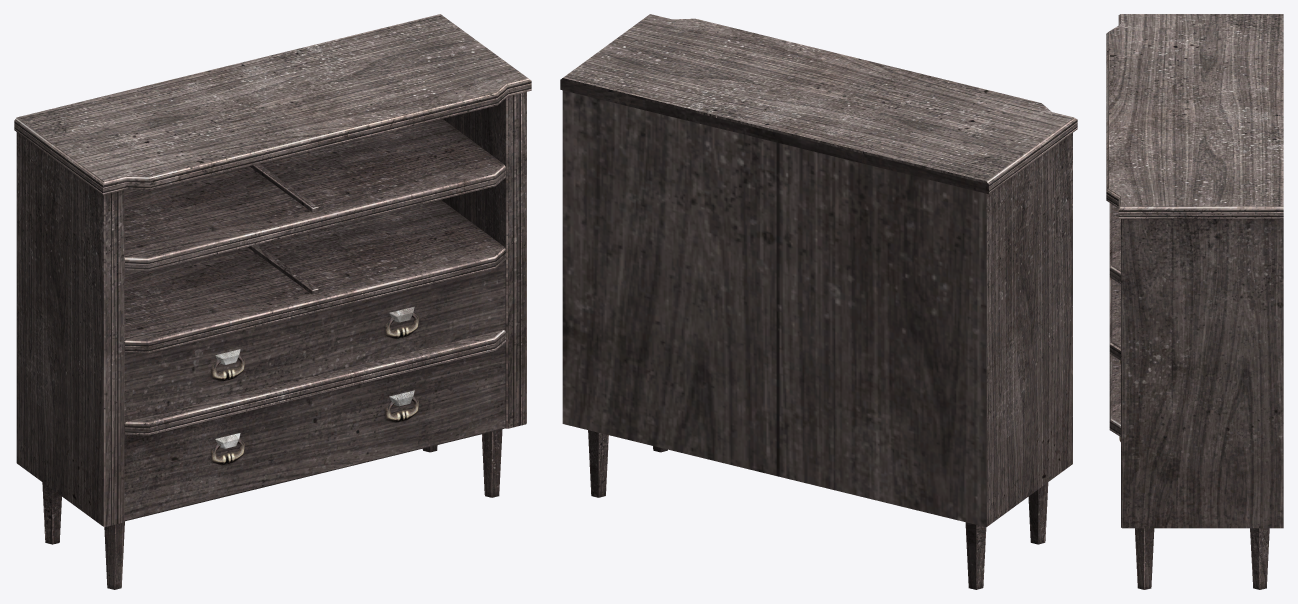
File: cabinet02.FBX
3 views of the same model, side by side, from view 1: azimuth 30°, elevation 25°; view 2: azimuth 150°, elevation 25°; view 3: azimuth 270°, elevation 25° (orthographic). The views are drawn at different scales.
Visible parts, largest first — view 1: SM_Cabinet02; view 2: SM_Cabinet02; view 3: SM_Cabinet02.
Part boxes in pixels (box(x1,y1,x2,y2)): SM_Cabinet02: box(14, 14, 531, 589); SM_Cabinet02: box(560, 14, 1077, 589); SM_Cabinet02: box(1106, 14, 1283, 589).
Size of the model in its own units: 103 by 96.44 by 39.66.
Materials: 1 (1 with a texture image).
